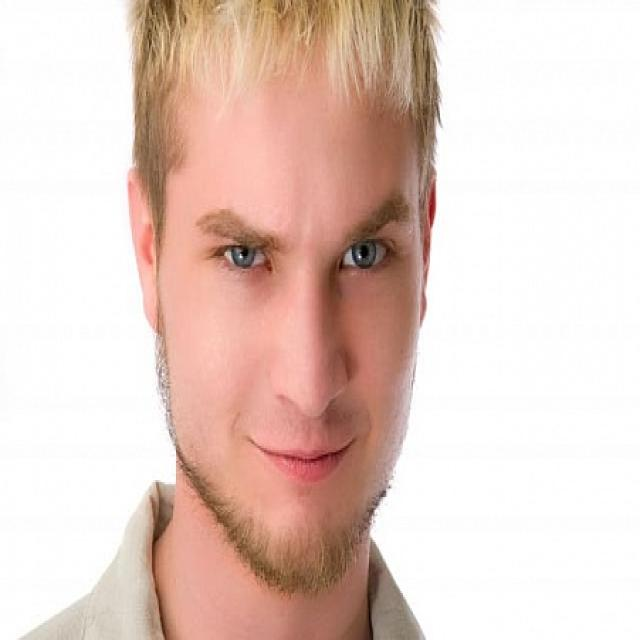Eyes: (203, 217, 414, 286)
